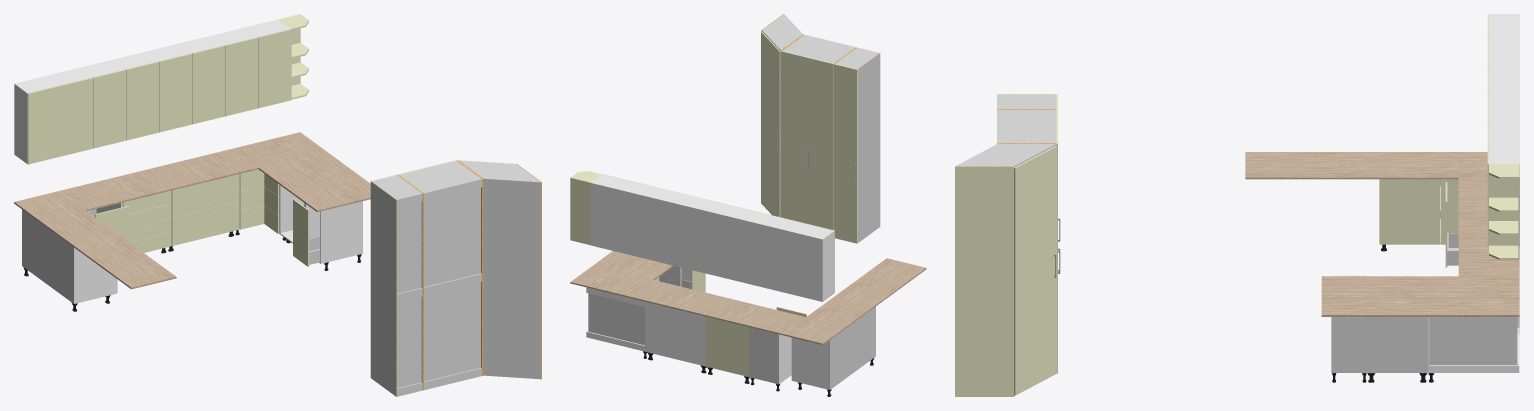
Rendered from Mooikloof_Kombuis.glb.
3 views of the same model, side by side, from view 1: azimuth 30°, elevation 25°; view 2: azimuth 150°, elevation 25°; view 3: azimuth 270°, elevation 25° (orthographic). The views are drawn at different scales.
Visible parts, largest first — view 1: G-Object.009, G-Object.039, G-Object.002, G-Object.001, G-Object.018, G-Object.020, G-Object.003, C-FloorBack720, C-Door450x720.001, C-Door450x720.002, C-Door450x720.004, C-Door450x720.005 (+29 smaller); view 2: G-Object.002, G-Object.035, G-Object.029, G-Object.016, G-Object.018, C-WallBack720#2.003, C-WallBack720#2.001, C-WallBack720#2.002, C-WallBack720#2, G-Object.059, G-Object.003, C-FloorBack720#1 (+19 smaller); view 3: G-Object.052, G-Object.059, G-Object.001, G-Object.003, G-Object.002, C-back1, C-Door450x720Edged.001, C-FloorBack.002, C-FloorBack.003, G-Object.041, G-Object.053, C-WallSide720 (+7 smaller).
Part boxes in pixels (x1=…): G-Object.009: x1=484, y1=178, x2=540, y2=377; G-Object.039: x1=424, y1=178, x2=480, y2=381; G-Object.002: x1=14, y1=148, x2=258, y2=222; G-Object.001: x1=233, y1=132, x2=370, y2=212; G-Object.018: x1=371, y1=181, x2=396, y2=396; G-Object.020: x1=397, y1=193, x2=421, y2=388; G-Object.003: x1=40, y1=210, x2=176, y2=289; C-FloorBack720: x1=22, y1=209, x2=74, y2=303; C-Door450x720.001: x1=258, y1=29, x2=291, y2=108; C-Door450x720.002: x1=27, y1=85, x2=60, y2=164; C-Door450x720.004: x1=93, y1=69, x2=126, y2=148; C-Door450x720.005: x1=126, y1=61, x2=159, y2=140; G-Object.002: x1=630, y1=280, x2=845, y2=344; G-Object.035: x1=781, y1=50, x2=807, y2=223; G-Object.029: x1=807, y1=57, x2=834, y2=230; G-Object.016: x1=834, y1=64, x2=857, y2=243; G-Object.018: x1=858, y1=53, x2=880, y2=242; C-WallBack720#2.003: x1=648, y1=197, x2=706, y2=273; C-WallBack720#2.001: x1=764, y1=225, x2=822, y2=301; C-WallBack720#2.002: x1=706, y1=211, x2=764, y2=287; C-WallBack720#2: x1=590, y1=182, x2=648, y2=259; G-Object.059: x1=761, y1=31, x2=780, y2=217; G-Object.003: x1=806, y1=258, x2=926, y2=327; C-FloorBack720#1: x1=646, y1=302, x2=705, y2=366; G-Object.052: x1=955, y1=166, x2=1013, y2=396; G-Object.059: x1=1014, y1=145, x2=1057, y2=395; G-Object.001: x1=1321, y1=276, x2=1519, y2=316; G-Object.003: x1=1245, y1=152, x2=1458, y2=179; G-Object.002: x1=1458, y1=152, x2=1519, y2=276; C-back1: x1=1429, y1=317, x2=1516, y2=364; C-Door450x720Edged.001: x1=1379, y1=179, x2=1439, y2=244; C-FloorBack.002: x1=1367, y1=317, x2=1427, y2=372; C-FloorBack.003: x1=1331, y1=317, x2=1366, y2=372; G-Object.041: x1=999, y1=110, x2=1055, y2=142; G-Object.053: x1=956, y1=144, x2=1055, y2=167; C-WallSide720: x1=1489, y1=164, x2=1519, y2=245.
Size of the model in its own units: 3.8 by 2.5 by 5.56.
11 materials, 5 textured.
